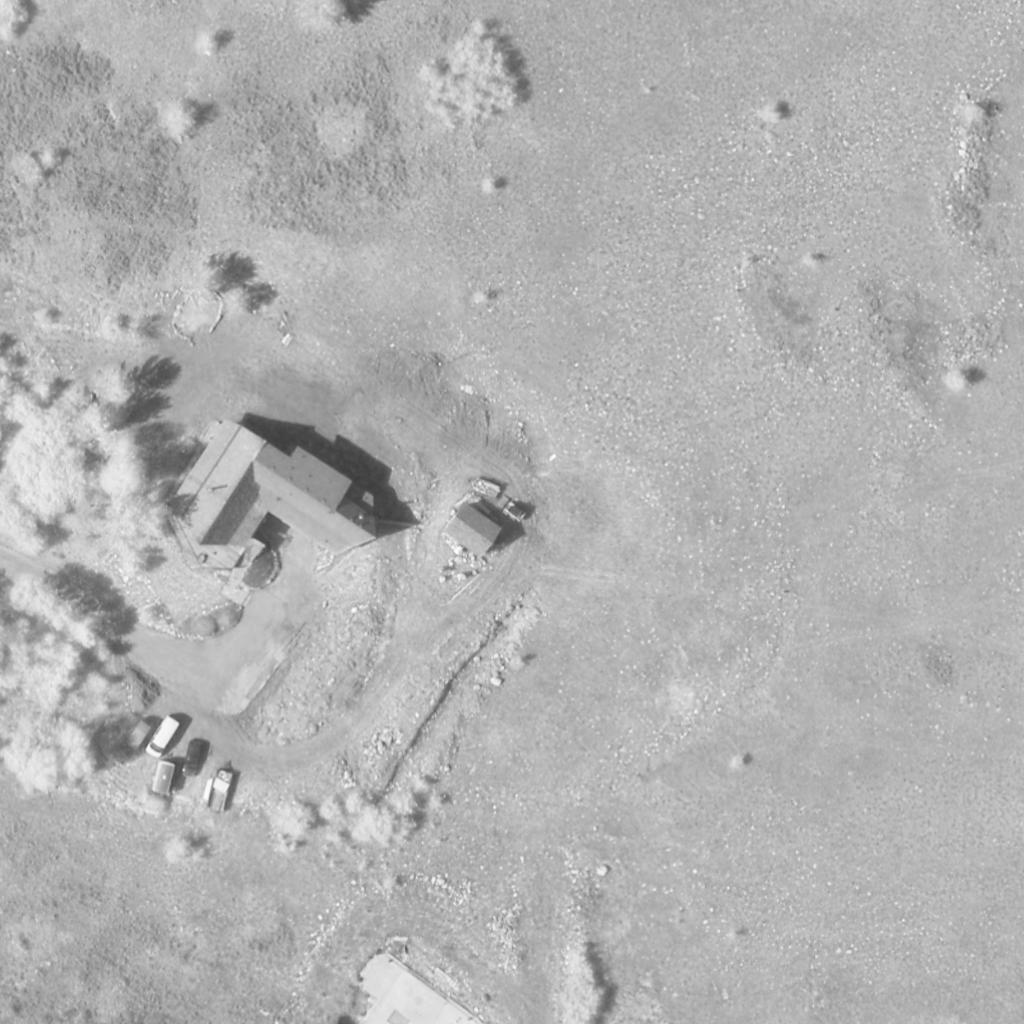vehicle: (143, 716, 183, 760), (180, 739, 204, 777)
